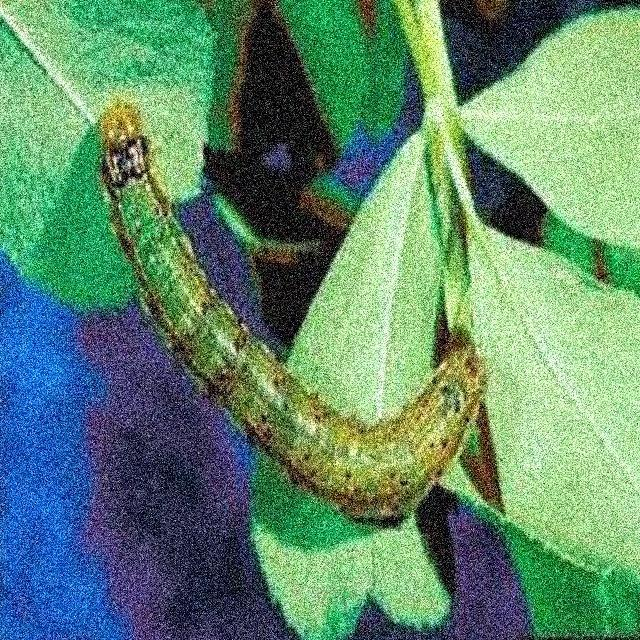Plaga: (97, 94, 493, 529)
